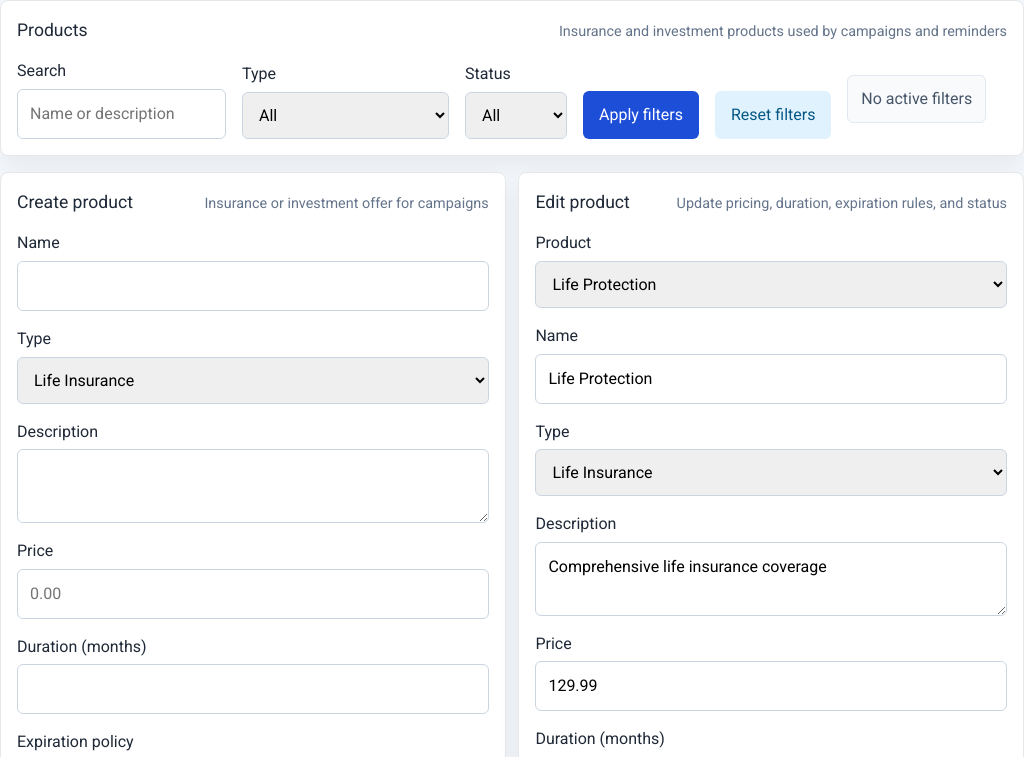
Test: ProductsPage › resets product search and filter controls
Type "life" into the field named "Search products" at [122, 114], box [17, 89, 226, 139]
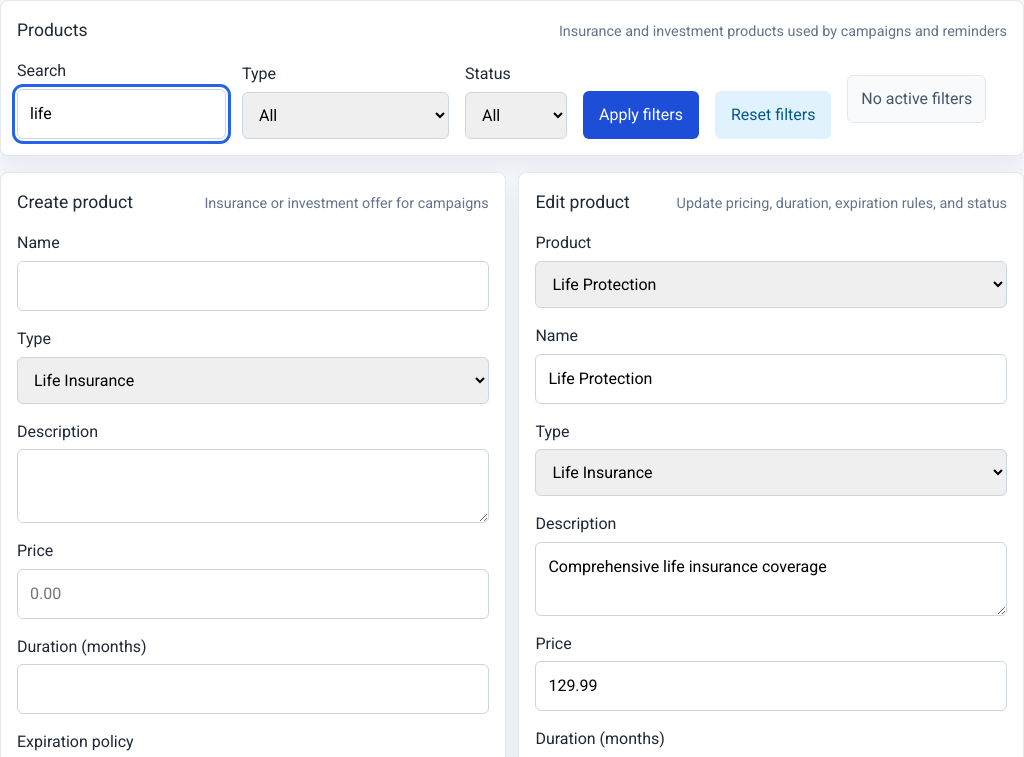
Select "Life Insurance" in the dropdown named "Product type filter" at [346, 116], box [242, 92, 449, 139]
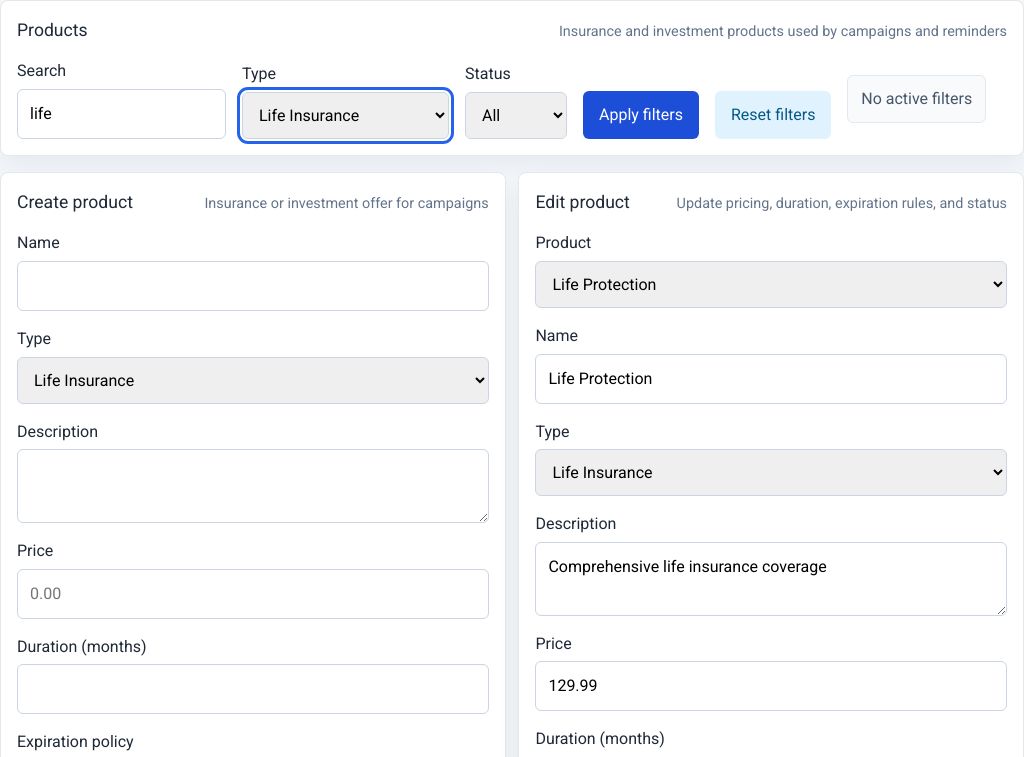
Click the button "Apply filters" at [641, 115], box [583, 91, 699, 139]
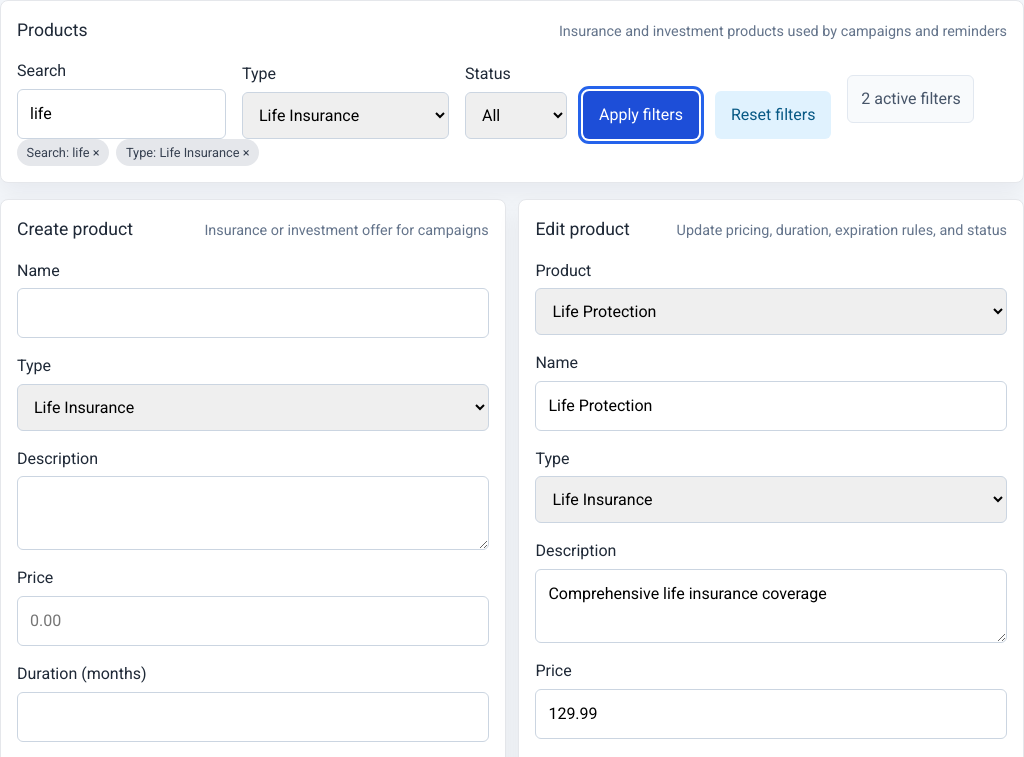
Now the text "2 active filters" is shown, box [848, 75, 974, 123]
Click the button "Reset filters" at [773, 115], box [715, 91, 832, 139]
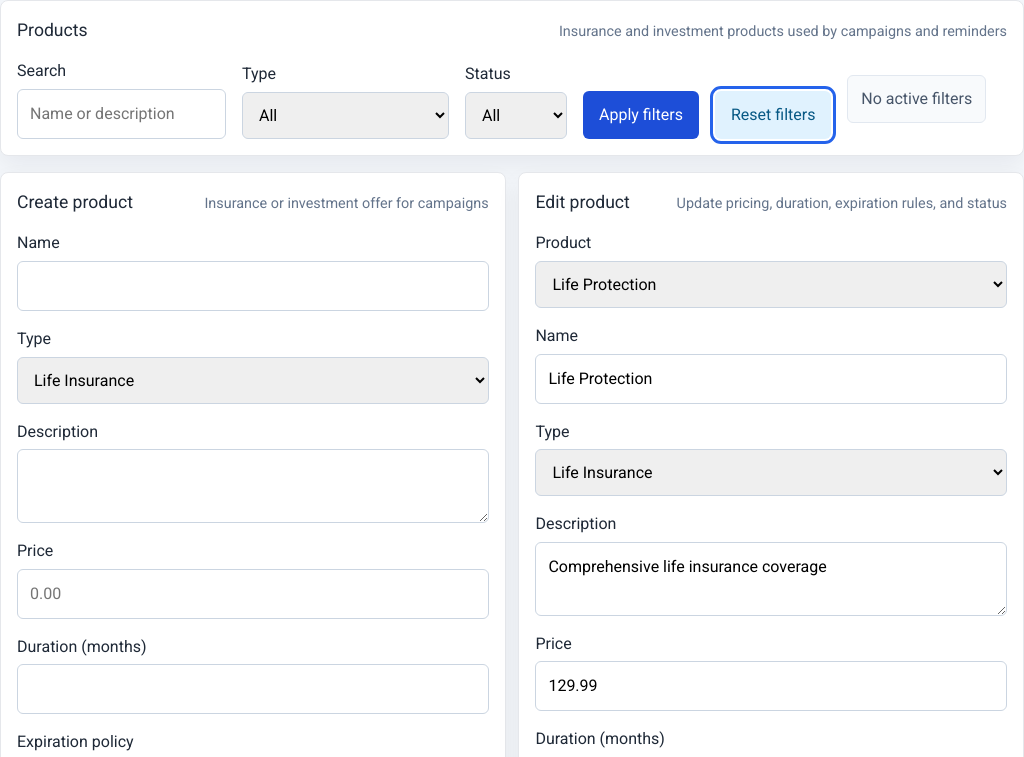
Expected: the dropdown named "Product active filter" shows "All", [465, 92, 567, 139]
Now the field named "Search products" is empty, box [17, 89, 226, 139]
Now the text "No active filters" is shown, box [848, 75, 986, 123]
